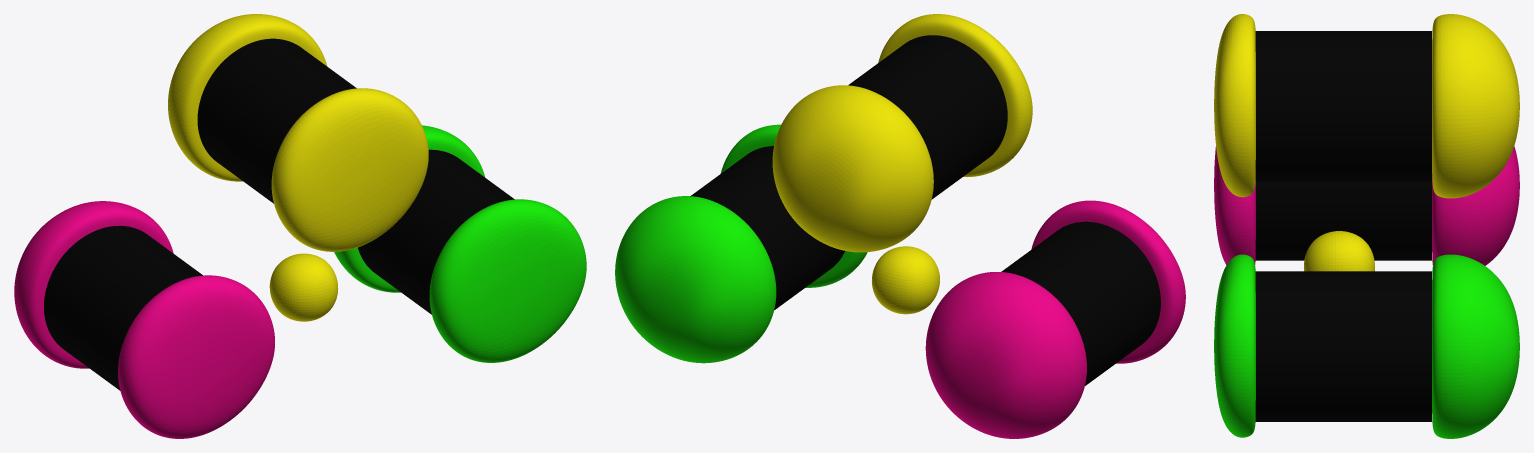
File: SN_Orbes.fbx
3 views of the same model, side by side, from view 1: azimuth 30°, elevation 25°; view 2: azimuth 150°, elevation 25°; view 3: azimuth 270°, elevation 25° (orthographic). The views are drawn at different scales.
Parts seen in each view (by area): view 1: Cubo; view 2: Cubo; view 3: Cubo.
Part boxes in pixels (x1,y1,x2,y2): Cubo: [14, 14, 586, 438]; Cubo: [615, 14, 1185, 438]; Cubo: [1214, 14, 1519, 438].
Bounding box in the file's own units: 73.32 × 46.6 × 39.58.
